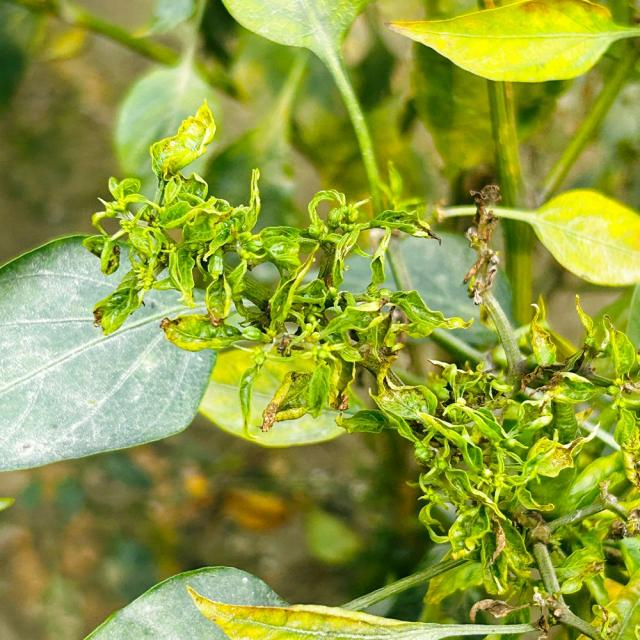Chilli_Leaf_Curl: (1, 0, 638, 638), (82, 98, 472, 446), (0, 231, 219, 472), (219, 0, 395, 221), (384, 0, 638, 84), (183, 583, 544, 639), (82, 564, 291, 639), (528, 187, 638, 287), (220, 0, 370, 58), (148, 98, 216, 180)
